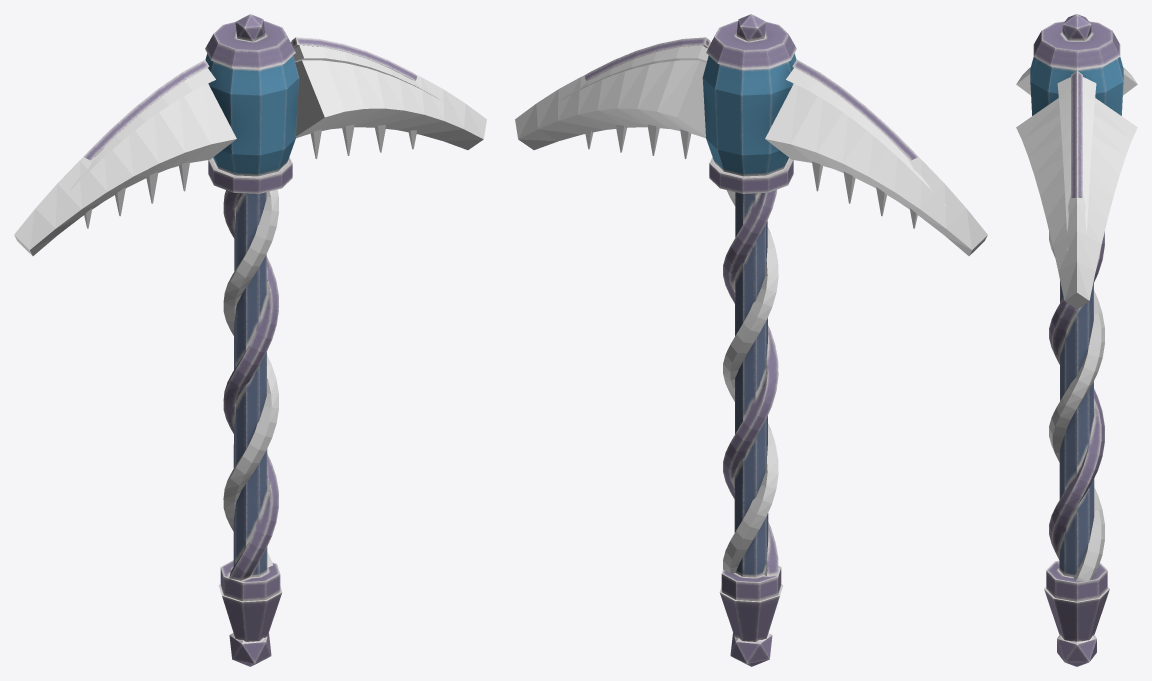
The model's file is FrostquartzPickaxe.glb.
The picture shows the model from 3 angles, left to right: view 1: azimuth 30°, elevation 25°; view 2: azimuth 150°, elevation 25°; view 3: azimuth 270°, elevation 25°; orthographic projection.
Visible parts, largest first — view 1: Body__Tex, Head__Crystal, Head__Accent, Head__Gem; view 2: Body__Tex, Head__Crystal, Head__Accent, Head__Gem; view 3: Body__Tex, Head__Crystal, Head__Accent.
Boxes of the visible parts, x1,y1,x2,y2 form: Body__Tex: (83, 14, 417, 666); Head__Crystal: (14, 60, 486, 567); Head__Accent: (55, 41, 453, 206); Head__Gem: (84, 124, 416, 228); Body__Tex: (584, 14, 918, 666); Head__Crystal: (515, 60, 987, 573); Head__Accent: (548, 41, 946, 206); Head__Gem: (585, 124, 917, 228); Body__Tex: (1030, 14, 1123, 666); Head__Crystal: (1016, 67, 1137, 582); Head__Accent: (1057, 77, 1096, 250).
Bounding box in the file's own units: 3.23 × 4.26 × 0.72.
Materials: 1 (1 with a texture image).
